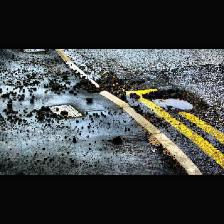pothole: (142, 88, 208, 114)
